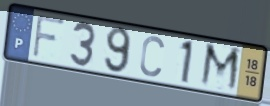1: (177, 39, 195, 86)
3: (68, 20, 98, 69)
9: (103, 25, 135, 75)
C: (138, 34, 166, 79)
F: (30, 13, 67, 60)
M: (197, 40, 243, 95)
